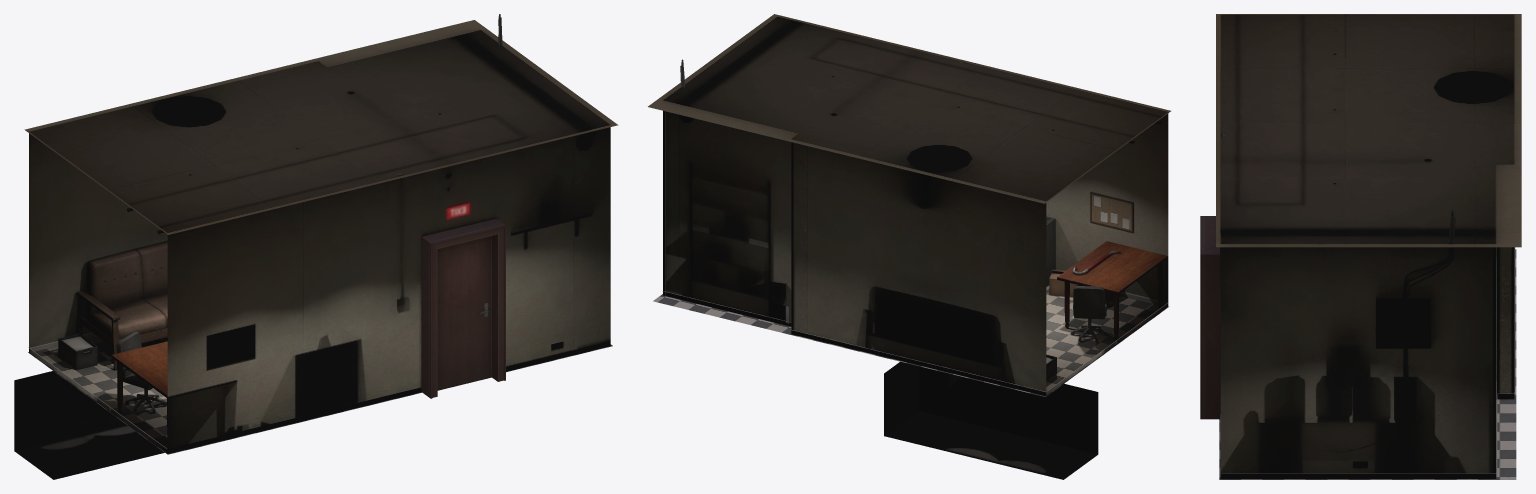
The model's file is wrw.glb.
The picture shows the model from 3 angles, left to right: view 1: azimuth 30°, elevation 25°; view 2: azimuth 150°, elevation 25°; view 3: azimuth 270°, elevation 25°; orthographic projection. The views are drawn at different scales.
Visible parts, largest first — view 1: ControlRoom_Wall_1_P1_01_mobile_0_Baked, ControlRoom_Ceiling_P1_02_mobile_0_Baked, ControlRoom_Wall_3_P1_01_mobile_0_Baked, ControlRoom_Vent_P1_02_mobile_0_Baked, IS4_P1_PuertaControl_4_IS4_TXT_P1_03_0_Baked, IS4_MDL_SalaControl_Sofa_SalaControl_Props_Mobile_0_Baked, P1_Puerta_Granate__3__P1_02_mobile_0_Baked, ControlRoom_Floor_P1_02_mobile_0_Baked, OfficeWoodTable_IS8_TXT_Office_Props_Mobile_0_Baked, IS4_MDL_SalaControl_CajaCarton__1__1_SalaControl_Props_Mobi, OfficeChair_IS8_TXT_Office_Props_Mobile_0_Baked, ControlRoom_FloorTrim_4_P1_01_mobile_0_Baked; view 2: ControlRoom_Wall_3_P1_01_mobile_0_Baked, ControlRoom_Ceiling_P1_02_mobile_0_Baked, ControlRoom_Vent_P1_02_mobile_0_Baked, ControlRoom_Wall_1_P1_01_mobile_0_Baked, ControlRoom_Floor_P1_02_mobile_0_Baked, OfficeWoodTable_IS8_TXT_Office_Props_Mobile_0_Baked, OfficeChair_IS8_TXT_Office_Props_Mobile_0_Baked, Office_CubicleBoard_IS8_TXT_Office_Props_Mobile_0_Baked, ControlRoom_FloorTrim_4_P1_01_mobile_0_Baked, ControlRoom_WallTrim_1_P1_01_mobile_0_Baked, IS4_MDL_SalaControl_CajaCarton__1__1_SalaControl_Props_Mobi, Office_FilesCabinet_IS8_TXT_Office_Props_Mobile_0_Baked; view 3: ControlRoom_Ceiling_P1_02_mobile_0_Baked, ControlRoom_Wall_2_P1_01_mobile_0_Baked, P1_Puerta_Granate__3__P1_02_mobile_0_Baked, ControlRoom_Wall_3_P1_01_mobile_0_Baked, ControlRoom_Floor_P1_02_mobile_0_Baked, ControlRoom_FloorTrim_4_P1_01_mobile_0_Baked, ControlRoom_WallTrim_1_P1_01_mobile_0_Baked.
Boxes of the visible parts, x1,y1,x2,y2 form: ControlRoom_Wall_1_P1_01_mobile_0_Baked: (167, 127, 610, 453); ControlRoom_Ceiling_P1_02_mobile_0_Baked: (24, 20, 618, 234); ControlRoom_Wall_3_P1_01_mobile_0_Baked: (29, 133, 167, 352); ControlRoom_Vent_P1_02_mobile_0_Baked: (14, 343, 164, 479); IS4_P1_PuertaControl_4_IS4_TXT_P1_03_0_Baked: (437, 236, 491, 390); IS4_MDL_SalaControl_Sofa_SalaControl_Props_Mobile_0_Baked: (76, 240, 167, 370); P1_Puerta_Granate__3__P1_02_mobile_0_Baked: (421, 218, 505, 398); ControlRoom_Floor_P1_02_mobile_0_Baked: (28, 336, 612, 454); OfficeWoodTable_IS8_TXT_Office_Props_Mobile_0_Baked: (112, 341, 167, 447); IS4_MDL_SalaControl_CajaCarton__1__1_SalaControl_Props_Mobi: (58, 333, 97, 370); OfficeChair_IS8_TXT_Office_Props_Mobile_0_Baked: (116, 331, 166, 412); ControlRoom_FloorTrim_4_P1_01_mobile_0_Baked: (28, 332, 421, 452); ControlRoom_Wall_3_P1_01_mobile_0_Baked: (663, 111, 1046, 396); ControlRoom_Ceiling_P1_02_mobile_0_Baked: (648, 14, 1170, 203); ControlRoom_Vent_P1_02_mobile_0_Baked: (884, 361, 1098, 479); ControlRoom_Wall_1_P1_01_mobile_0_Baked: (1046, 113, 1168, 306); ControlRoom_Floor_P1_02_mobile_0_Baked: (653, 285, 1168, 396); OfficeWoodTable_IS8_TXT_Office_Props_Mobile_0_Baked: (1057, 241, 1167, 340); OfficeChair_IS8_TXT_Office_Props_Mobile_0_Baked: (1071, 286, 1109, 342); Office_CubicleBoard_IS8_TXT_Office_Props_Mobile_0_Baked: (1090, 192, 1133, 232); ControlRoom_FloorTrim_4_P1_01_mobile_0_Baked: (662, 291, 1168, 395); ControlRoom_WallTrim_1_P1_01_mobile_0_Baked: (665, 111, 793, 334); IS4_MDL_SalaControl_CajaCarton__1__1_SalaControl_Props_Mobi: (1046, 269, 1111, 380); Office_FilesCabinet_IS8_TXT_Office_Props_Mobile_0_Baked: (1046, 216, 1055, 286); ControlRoom_Ceiling_P1_02_mobile_0_Baked: (1216, 14, 1521, 247); ControlRoom_Wall_2_P1_01_mobile_0_Baked: (1220, 247, 1495, 478); P1_Puerta_Granate__3__P1_02_mobile_0_Baked: (1200, 216, 1220, 419); ControlRoom_Wall_3_P1_01_mobile_0_Baked: (1496, 247, 1514, 399); ControlRoom_Floor_P1_02_mobile_0_Baked: (1219, 249, 1516, 479); ControlRoom_FloorTrim_4_P1_01_mobile_0_Baked: (1220, 247, 1515, 473); ControlRoom_WallTrim_1_P1_01_mobile_0_Baked: (1496, 247, 1514, 477).
Bounding box in the file's own units: 6.87 × 4.85 × 3.86.
41 materials, 39 textured.
